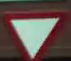Give way: (2, 5, 60, 60)
